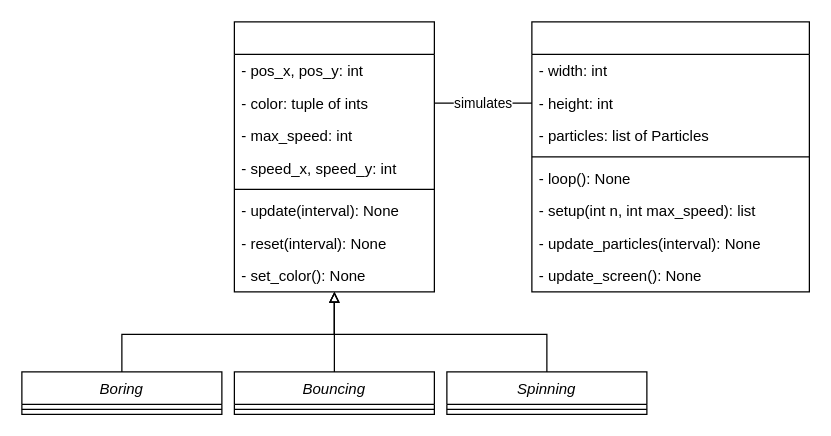
The diagram is 831 pixels wide and 436 high, and some of its shapes have lost their labels. Here are the shapes that lost their labels. From the top down, the box of each, then its label:
(233, 21, 434, 292): Particle
(531, 21, 809, 292): Storm
